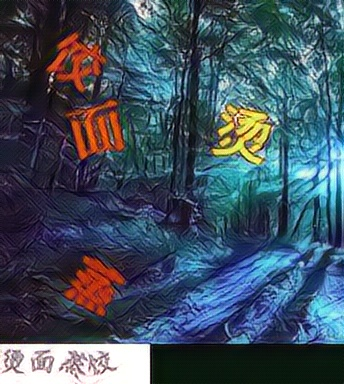BDC8: (43, 28, 108, 92)
C3E6: (63, 98, 128, 162)
CCCC: (208, 101, 273, 165)
D5F4: (62, 255, 127, 319)
